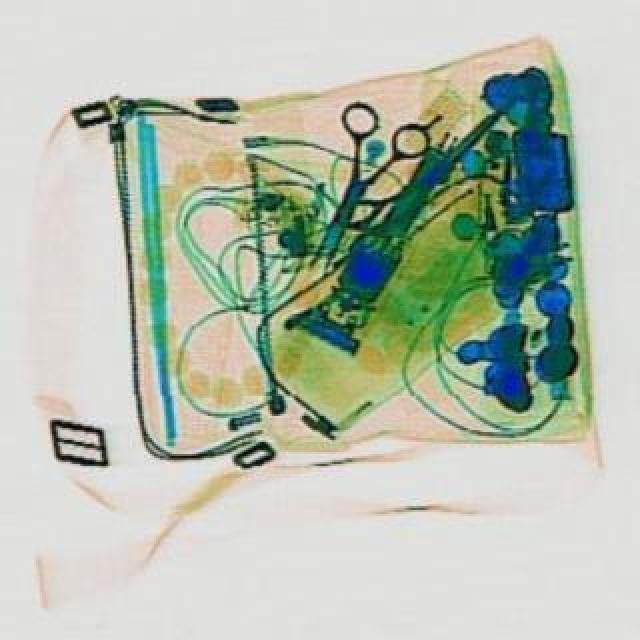pliers: (268, 94, 432, 286)
